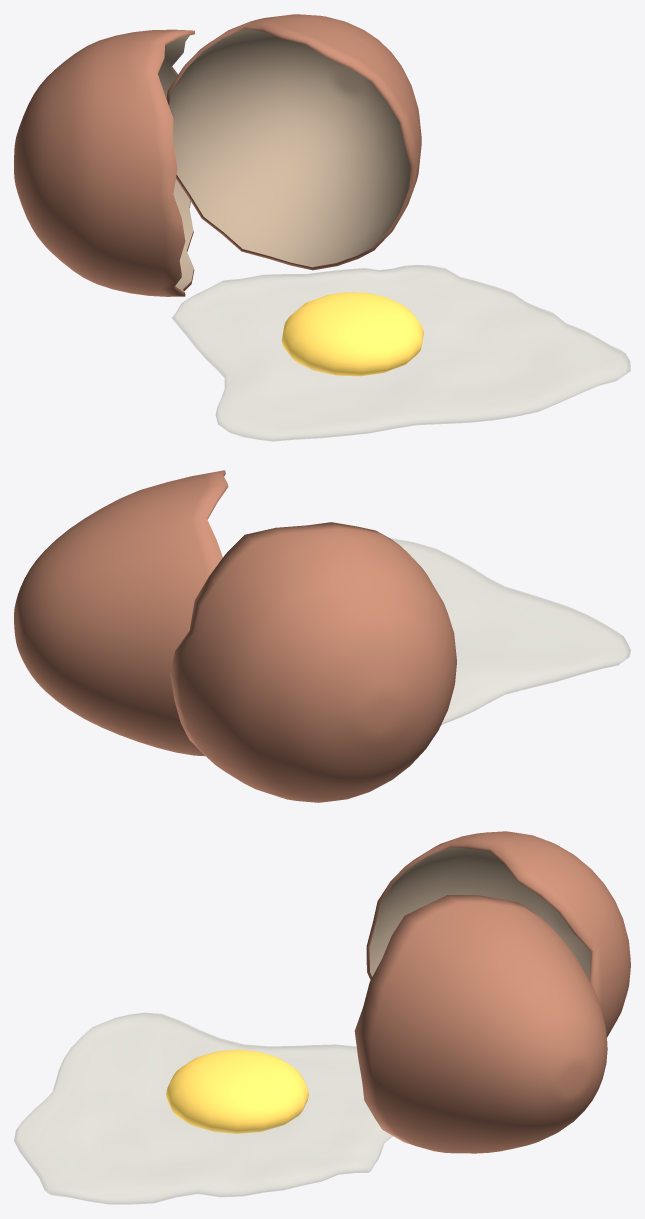
The model's file is egg_cracked.fbx.
The picture shows the model from 3 angles, top to bottom: view 1: azimuth 30°, elevation 25°; view 2: azimuth 150°, elevation 25°; view 3: azimuth 270°, elevation 25°; orthographic projection. The views are drawn at different scales.
Visible parts, largest first — view 1: egg_white, egg_interior, egg, egg_yolk; view 2: egg, egg_white; view 3: egg, egg_white, egg_yolk, egg_interior.
Part boxes in pixels (bbox=[...]): egg_white: bbox=[172, 265, 630, 441]; egg_interior: bbox=[158, 29, 410, 292]; egg: bbox=[14, 14, 421, 296]; egg_yolk: bbox=[281, 292, 423, 376]; egg: bbox=[14, 470, 456, 802]; egg_white: bbox=[390, 538, 630, 725]; egg: bbox=[354, 831, 630, 1153]; egg_white: bbox=[14, 1013, 392, 1204]; egg_yolk: bbox=[166, 1049, 308, 1133]; egg_interior: bbox=[369, 847, 590, 981].
Bounding box in the file's own units: 0.2466 × 0.1486 × 0.3419.
